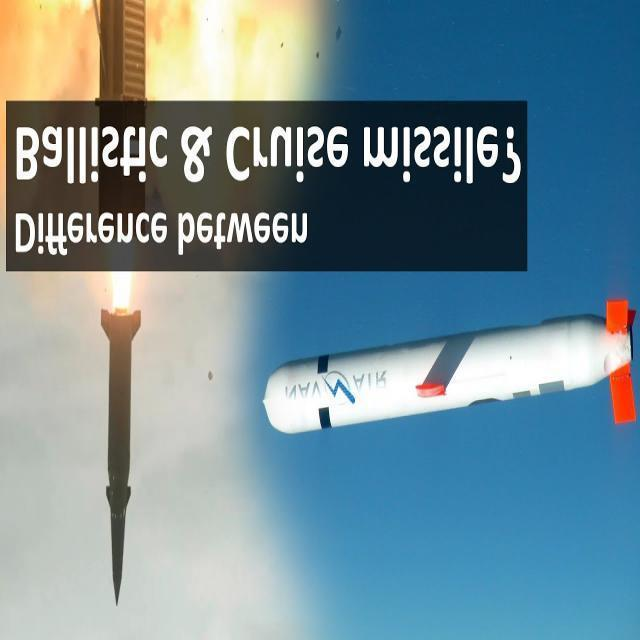Missile: (255, 316, 607, 442), (96, 298, 146, 620)
